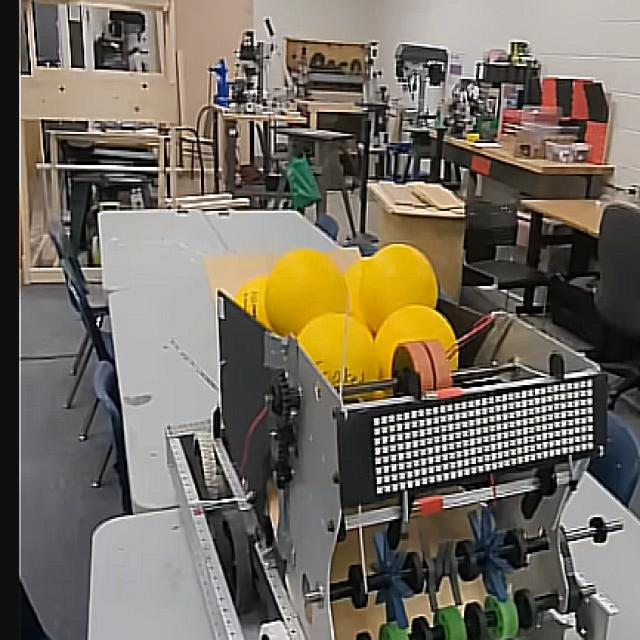Fuel: (264, 249, 346, 334), (359, 244, 438, 332), (376, 304, 456, 376), (297, 314, 377, 385), (235, 275, 270, 328), (344, 258, 368, 322)
